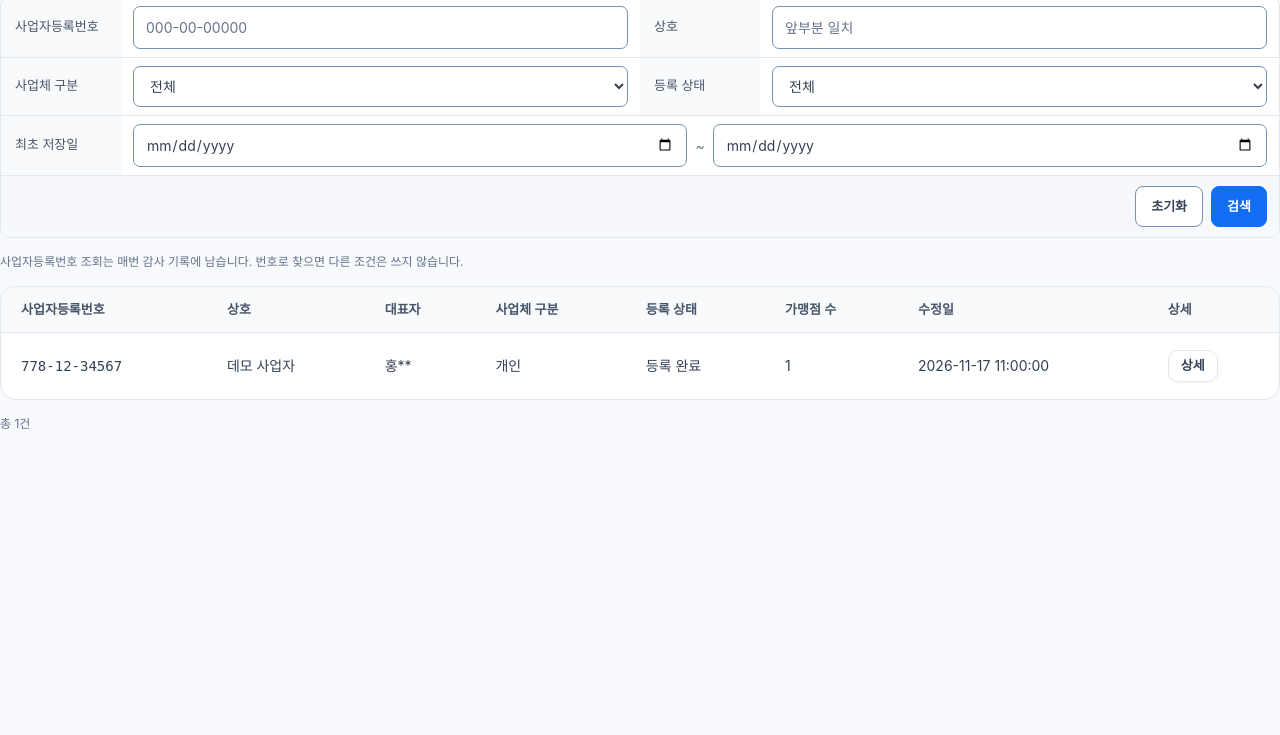
Test case: BusinessesScreen — 상세·이력 (BIZ-4-3·BIZ-4-5, §8.2·§9) › edit form → save → the detail is read again (C-18) and the form shows the new values
Click the button with aria-label "데모 사업자 상세" at (1193, 366), box [1168,350,1218,382]
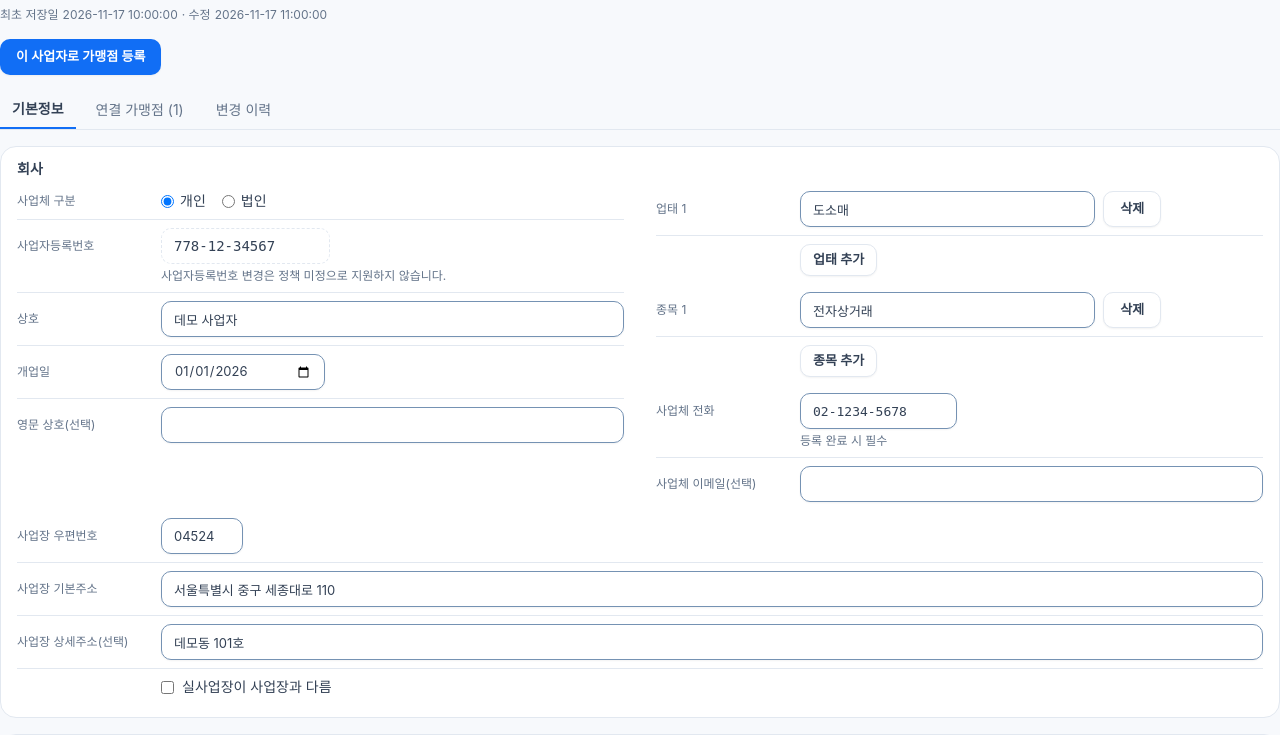
Click the field labelled "사업체 이메일(선택)" at (1032, 484), box [800,466,1263,502]
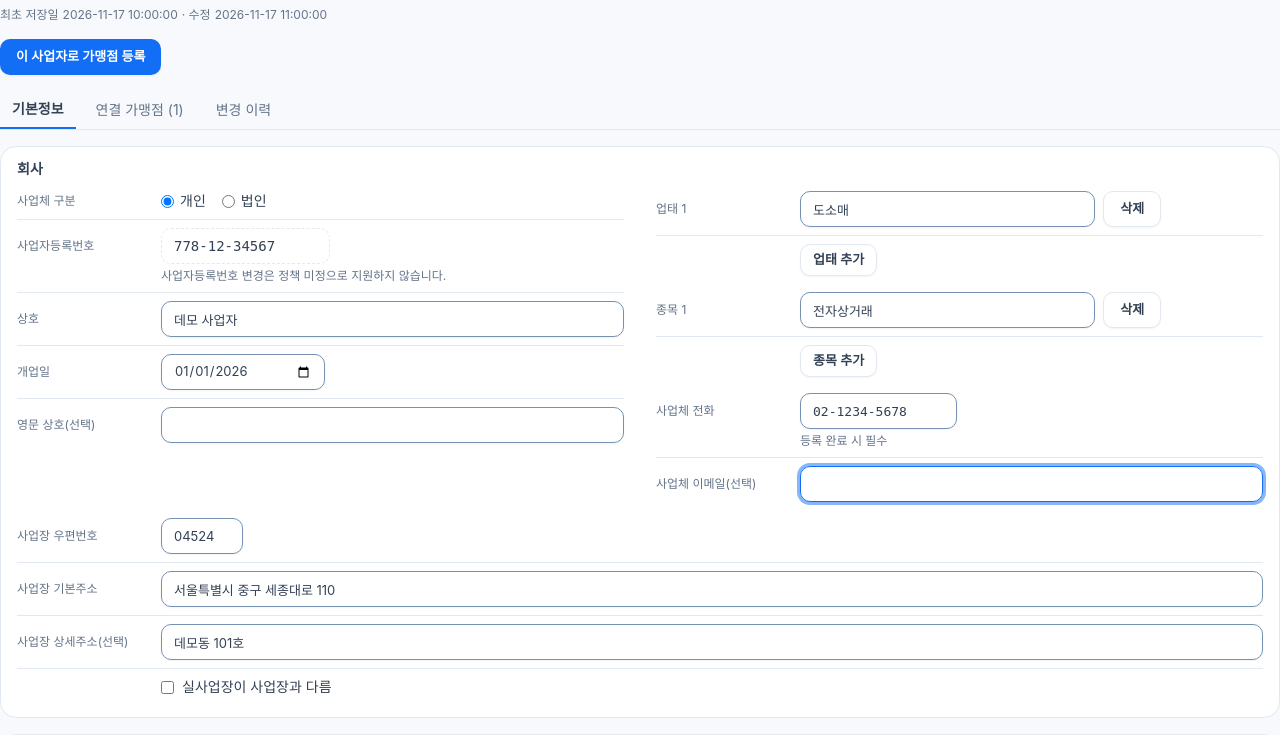
Type keys "biz.demo@example.test"
(page scrolled)
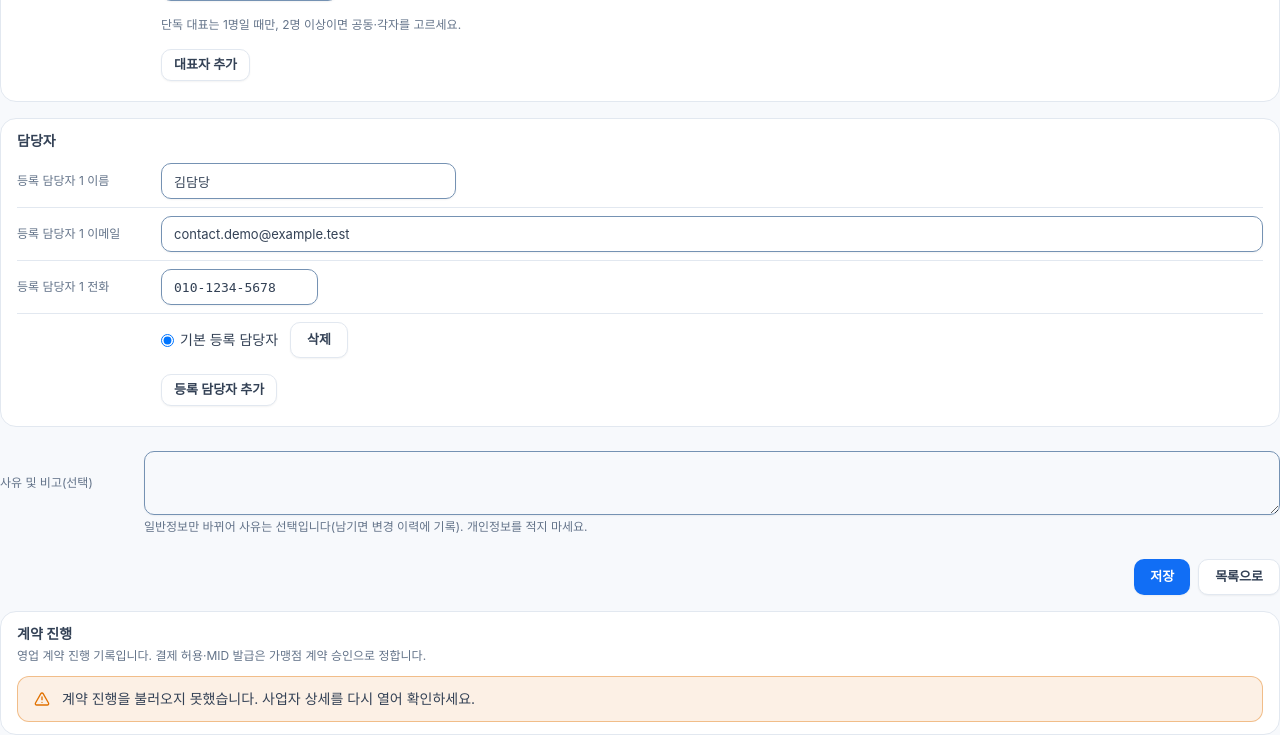
Click the button "저장" at (1162, 577), box [1134,559,1190,595]
(page scrolled)
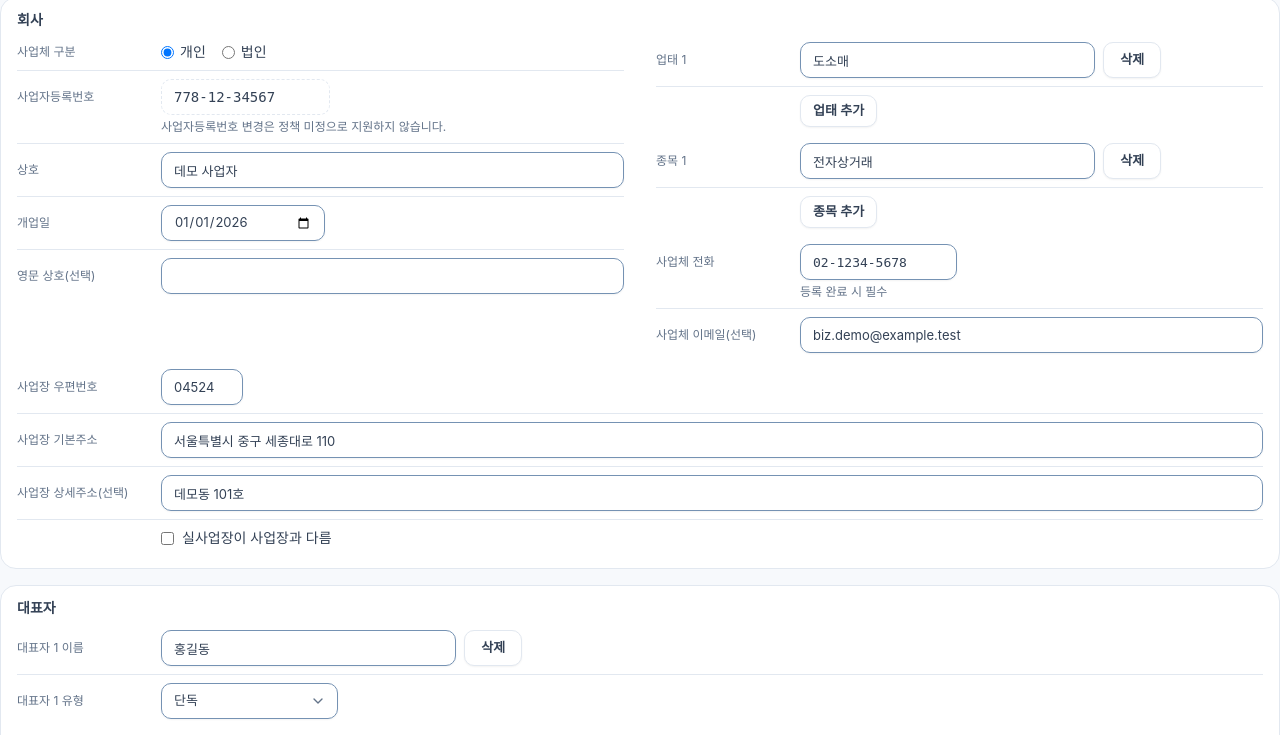
Now the field labelled "사업체 이메일(선택)" holds "biz.demo@example.test", box [800,317,1263,353]
